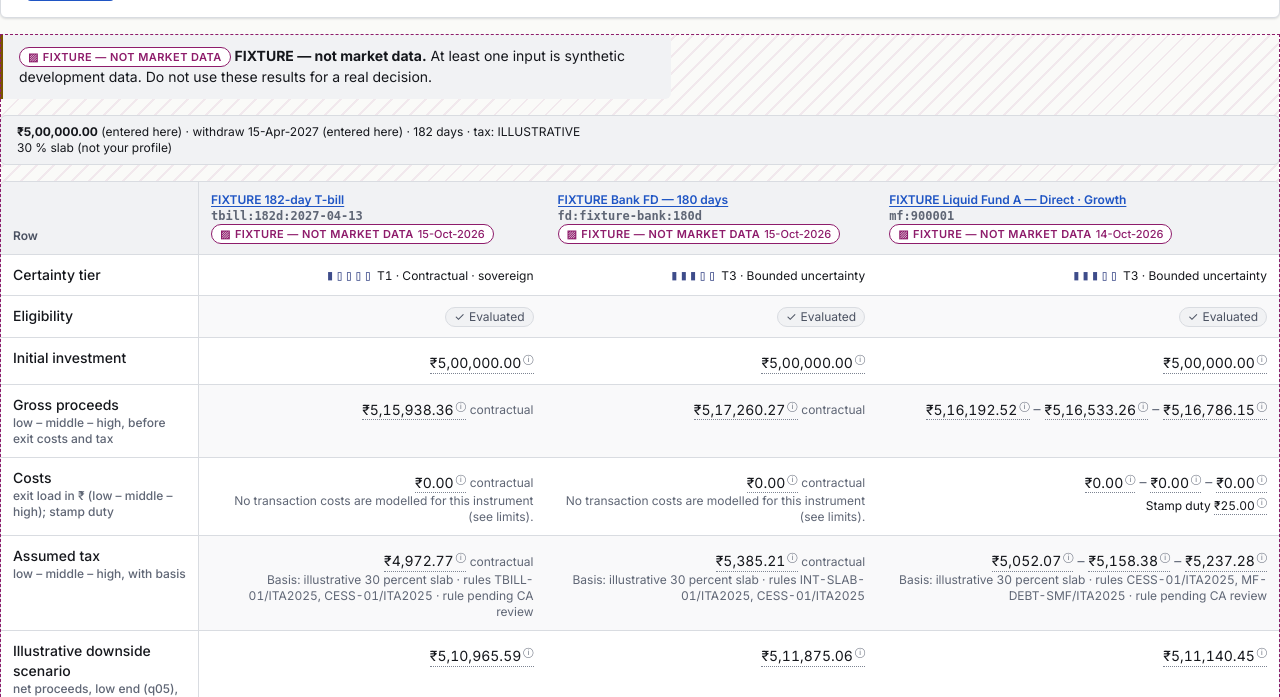
Test: Compare page › opens the explanation drawer for a number
(page scrolled)
Click the button named "Initial investment: ₹5,00,000.00" at (482, 361), box x1=430 y1=348 x2=534 y2=374
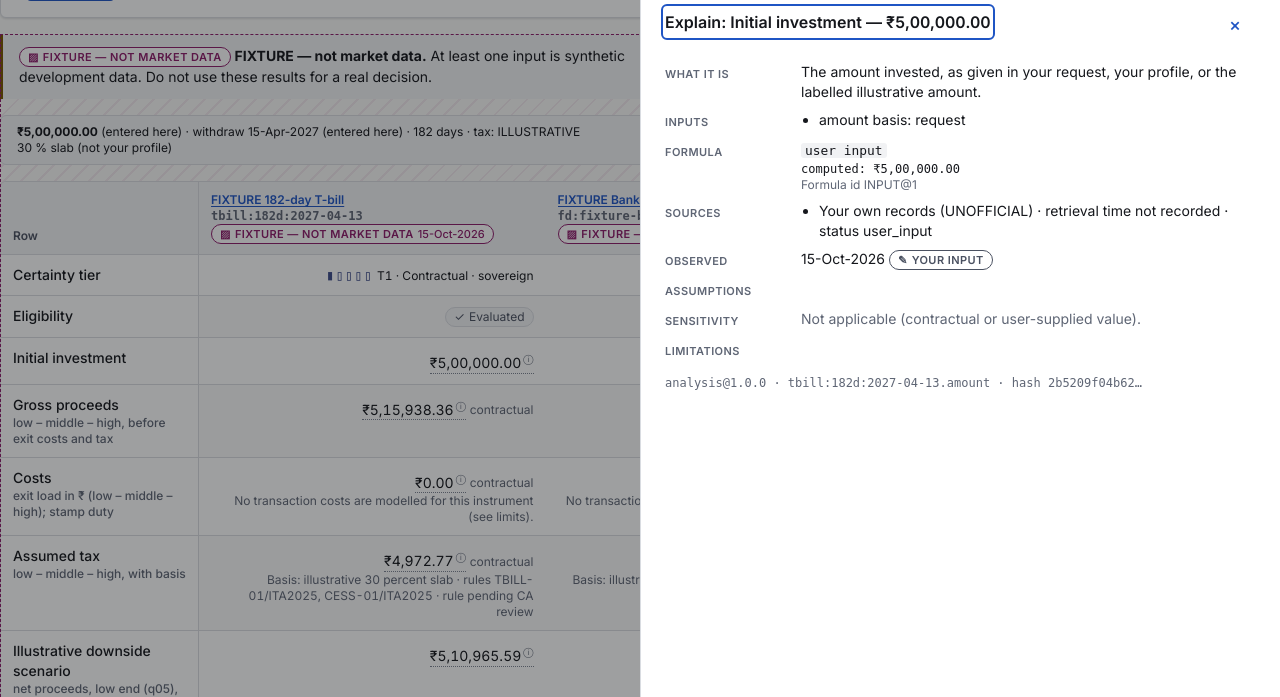
Check: the heading "Explain: Initial investment — ₹5,00,000.00" is shown, box x1=665 y1=8 x2=991 y2=36
